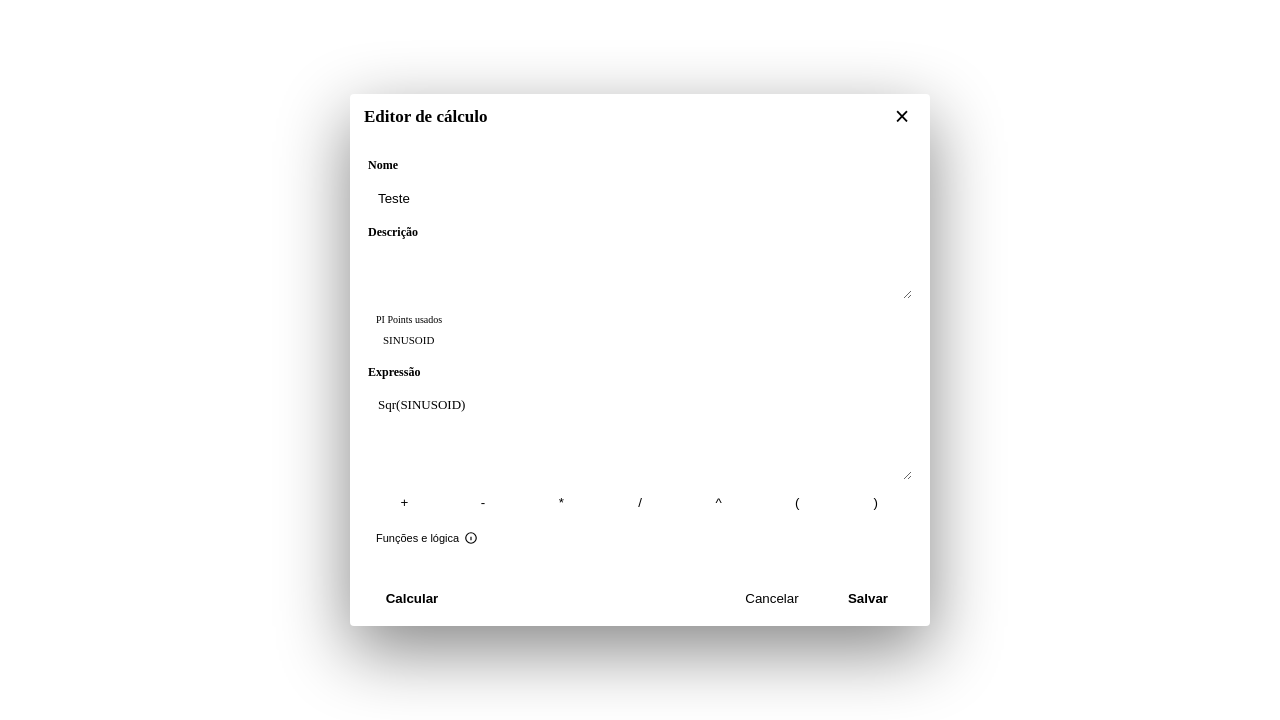
Scenario: mantém Calc Failed do PI como erro e não usa o fallback local
The image size is (1280, 720).
What coordinates should you click on to do the following:
click the button with test id "calculation-editor-execute"
I would click on:
 (412, 598)
Its box is [368,582,456,614].
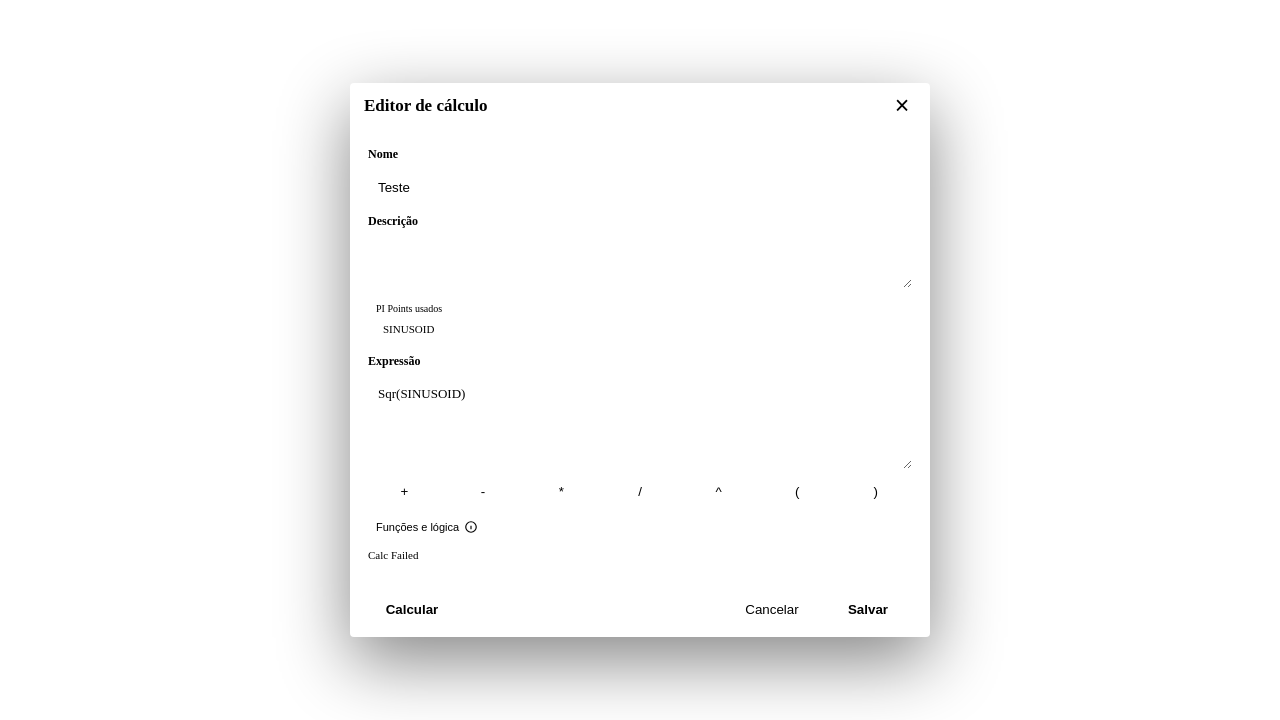
expect the message reads "Calc Failed": met, box [368,549,418,561]
